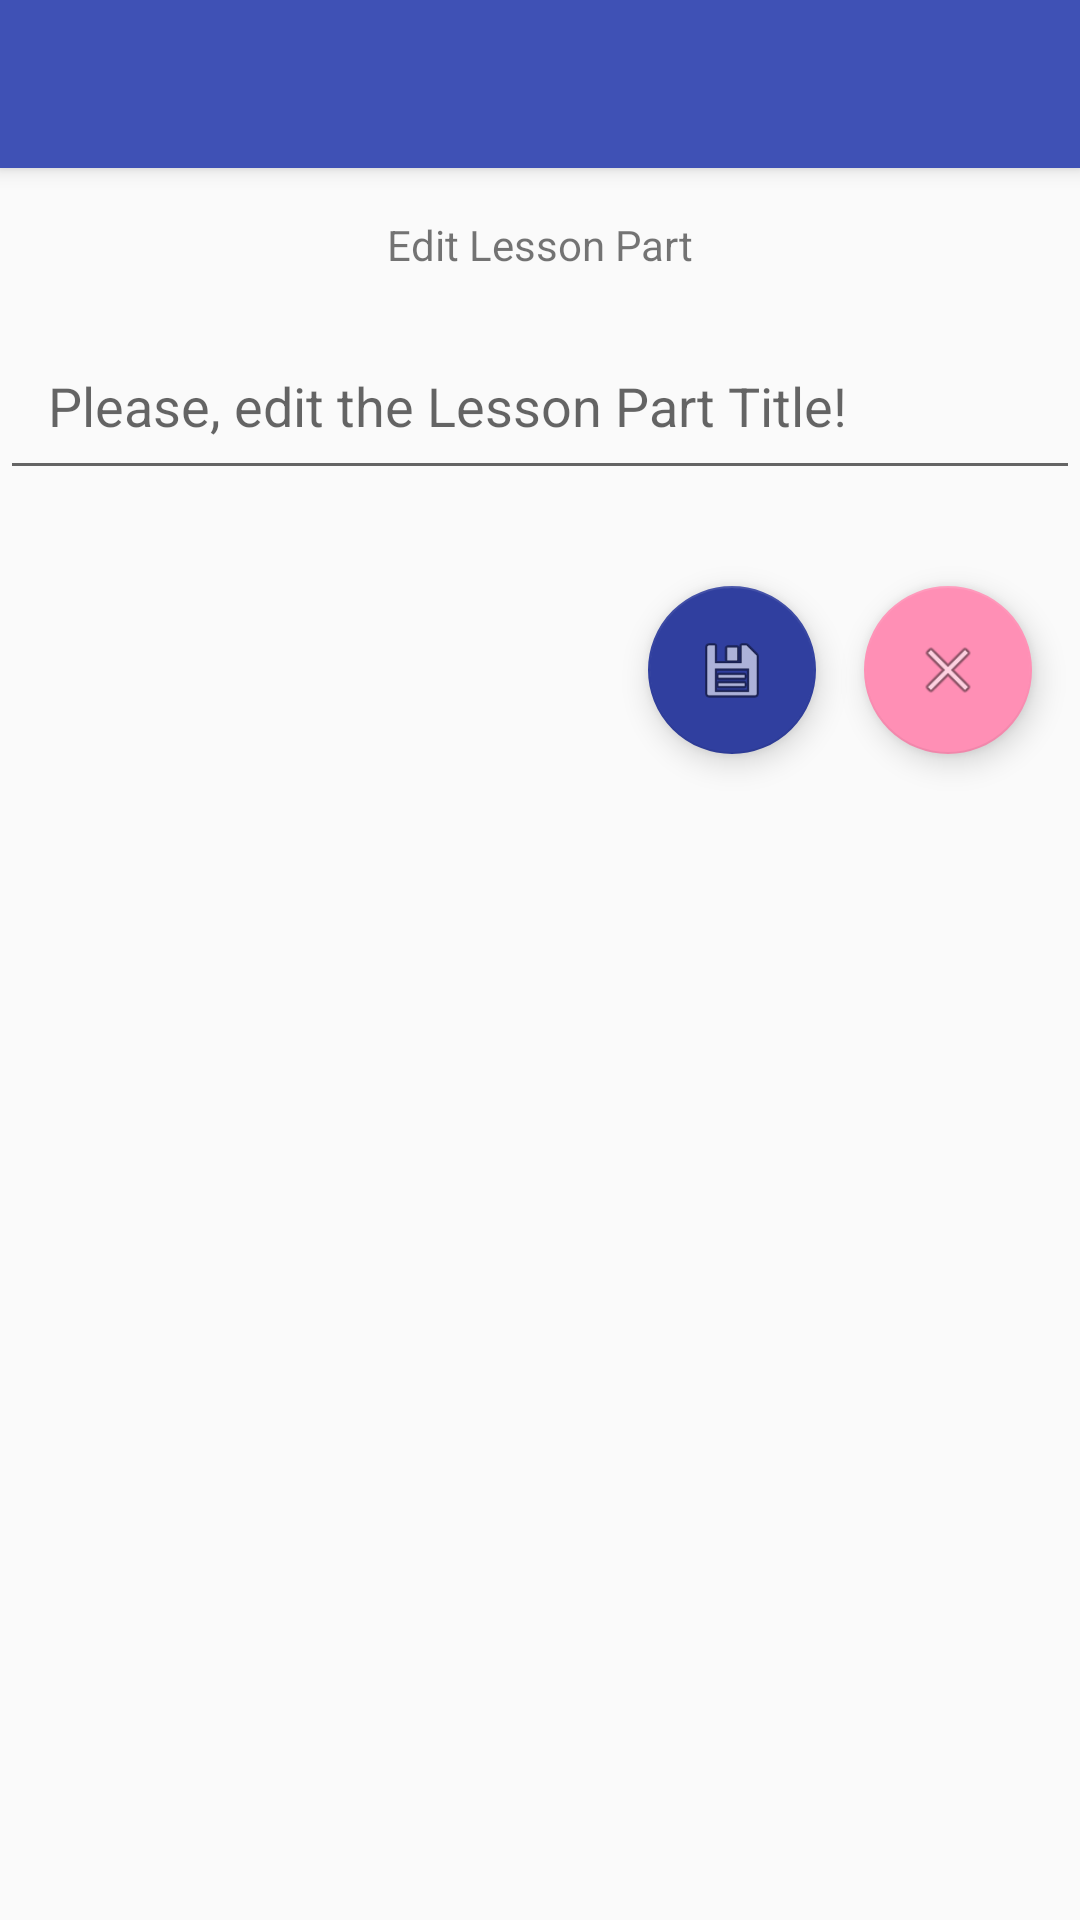

Screen size 1080 × 1920. Icon name, then its box in pixels as (x1, y1, x2, y2):
Cancel: (864, 586, 1032, 754)
save: (648, 586, 816, 754)
